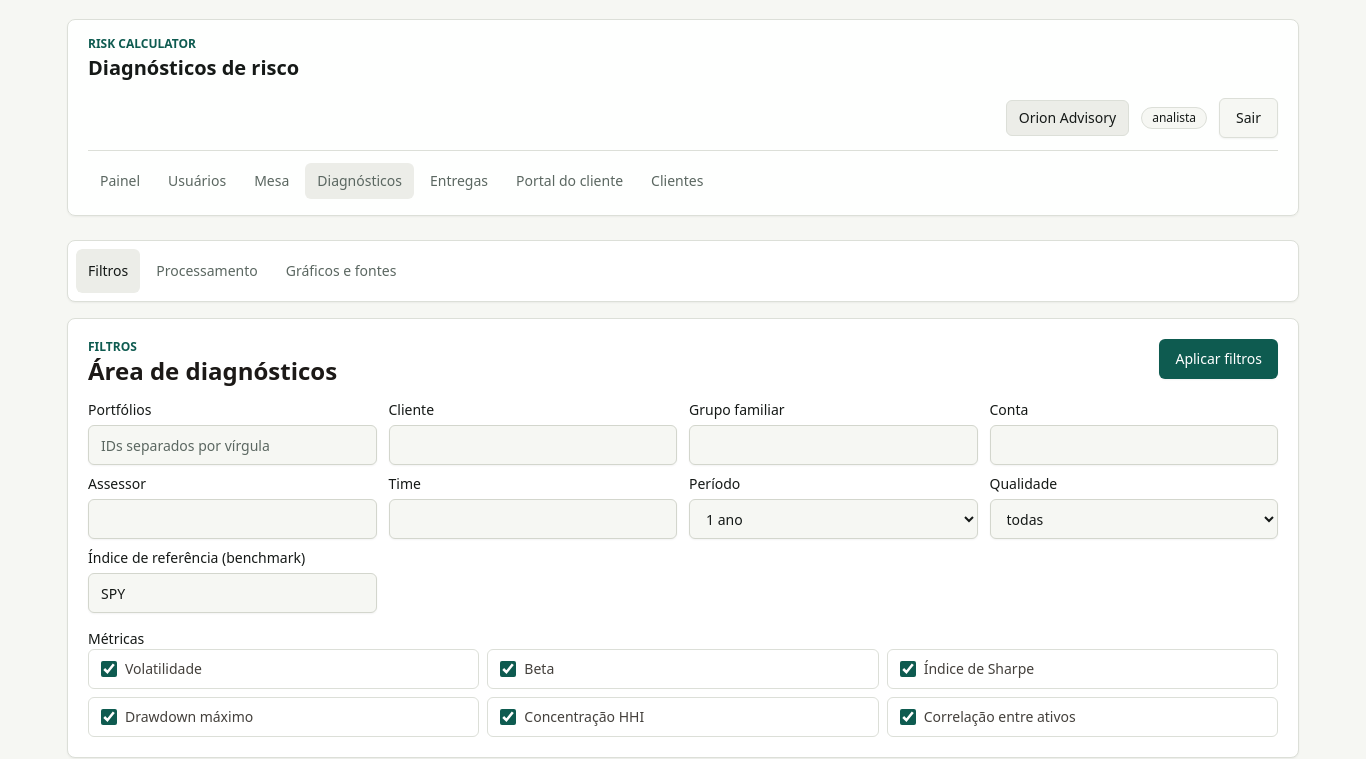
Test case: analytics diagnostics page › renders diagnostic filters, chart sections and async job states
Expected: the heading "Área de diagnósticos" is shown, [88,355,337,387]
Type "prt_main" into the field labelled "Portfólios". click: (232, 445)
box: [88,425,376,465]
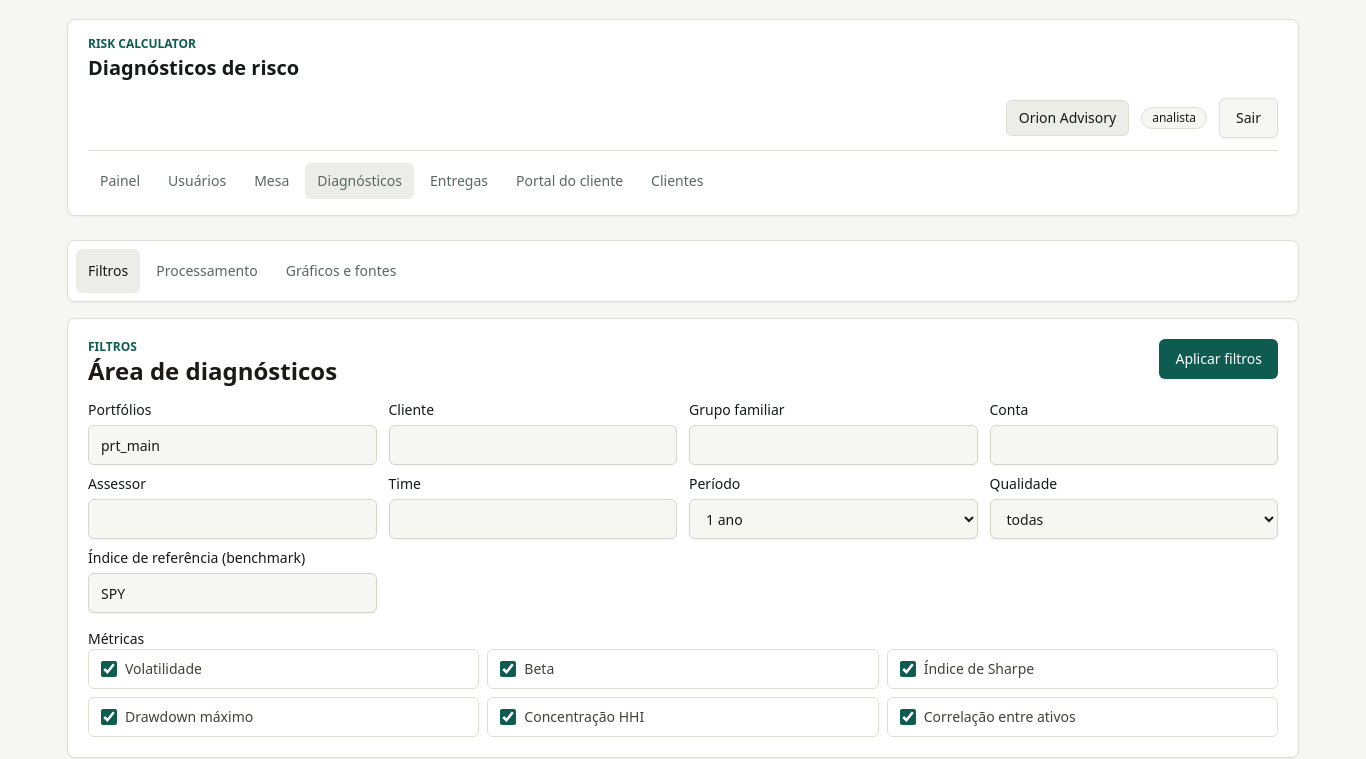
Select "5 anos" in the dropdown labelled "Período". click: (833, 519)
box: [689,499,978,539]
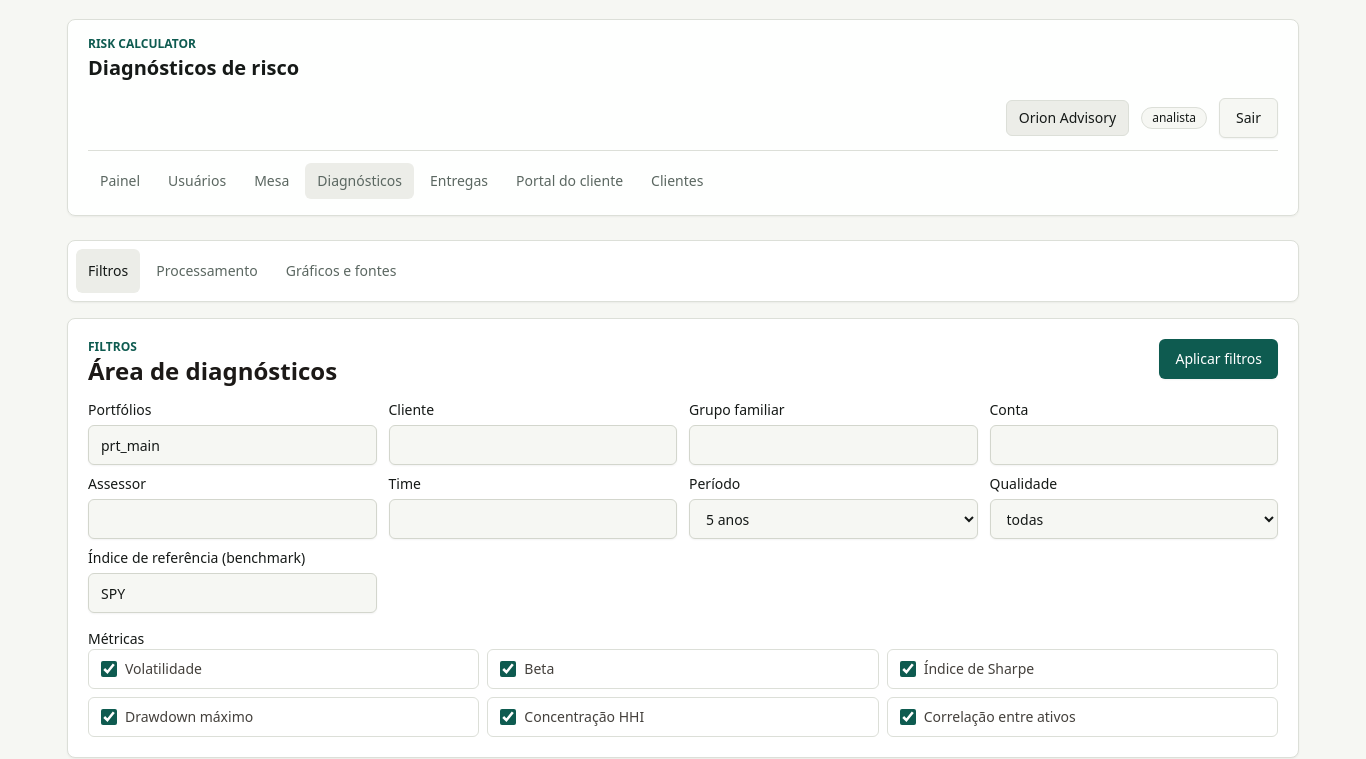
Click the button "Aplicar filtros". click: (1219, 359)
box: [1159,339,1278,379]
(page scrolled)
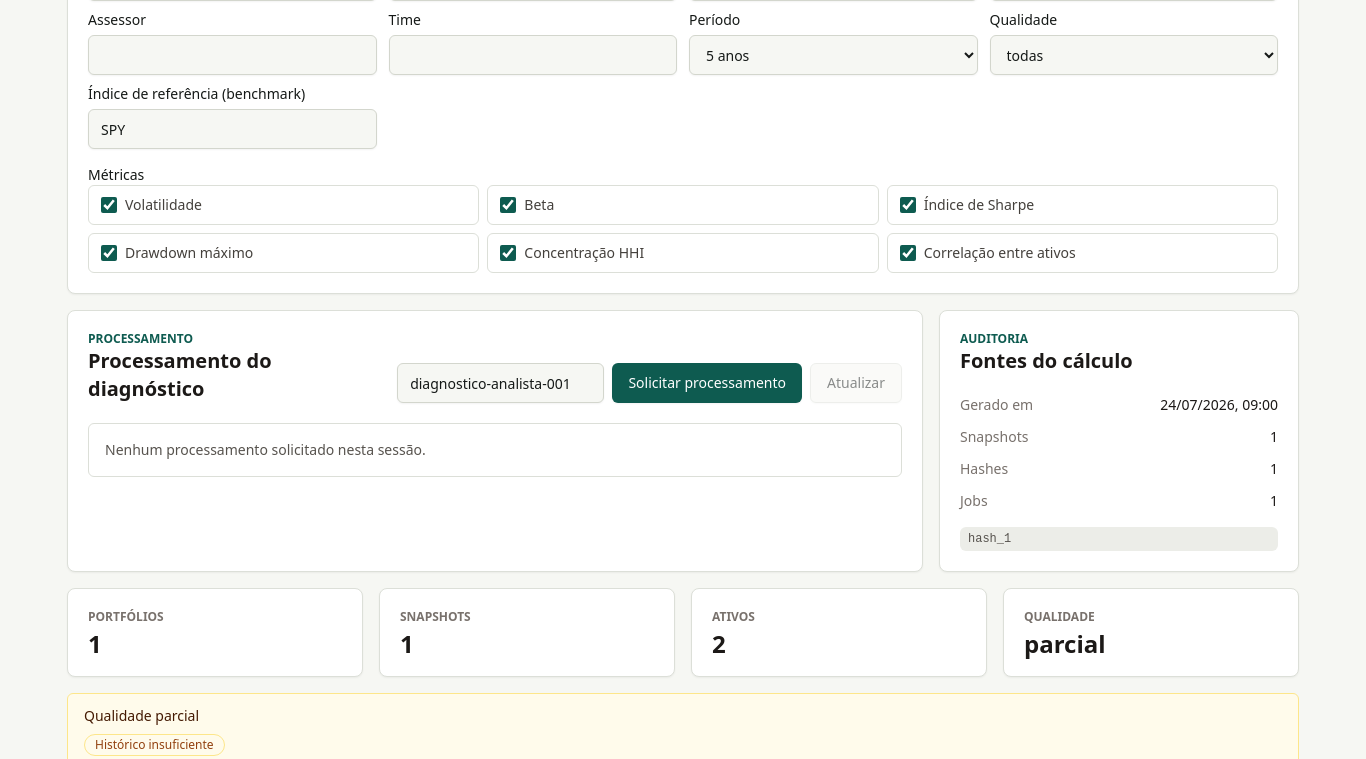
Click the button "Solicitar processamento". click: (707, 383)
box: [612,363,802,403]
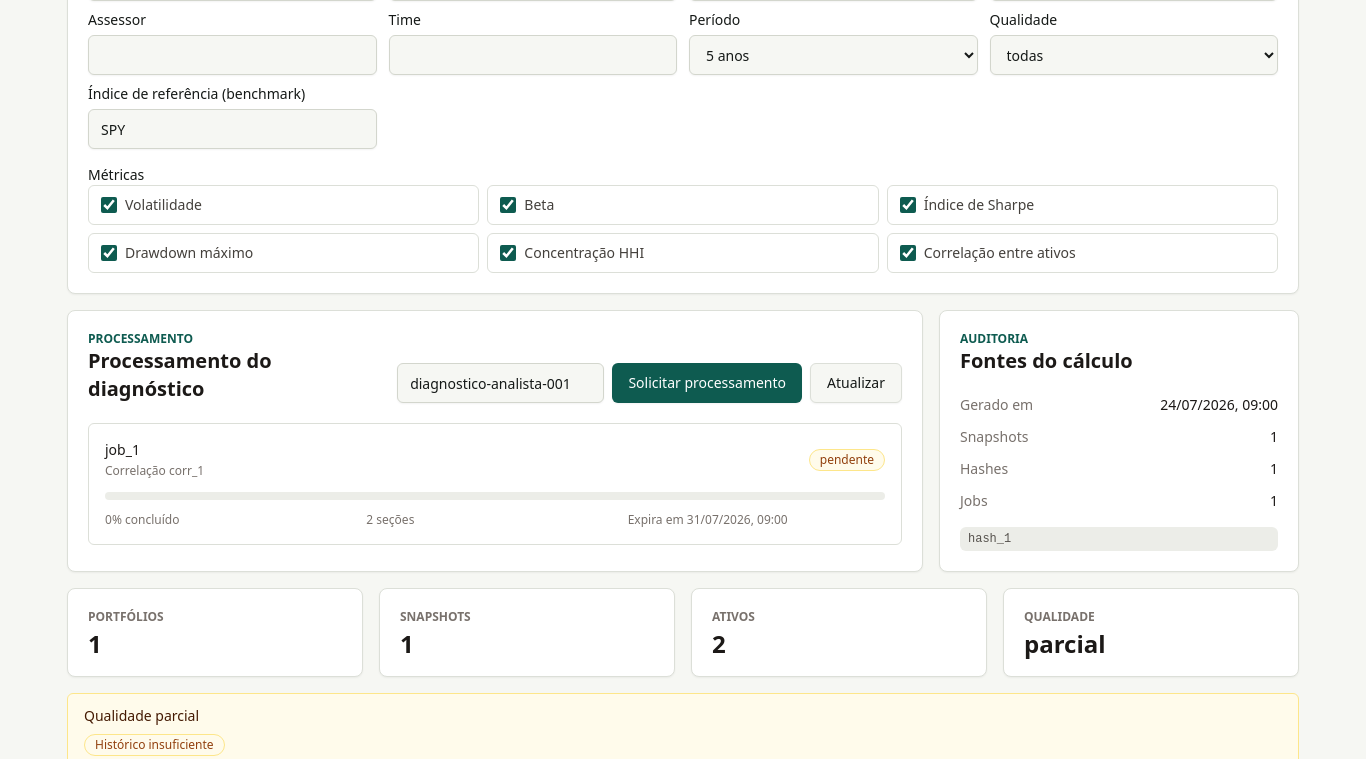
Expected: the text "pendente" is shown, [809,449,885,471]
Click the button "Atualizar". click: (856, 383)
box: [810,363,902,403]
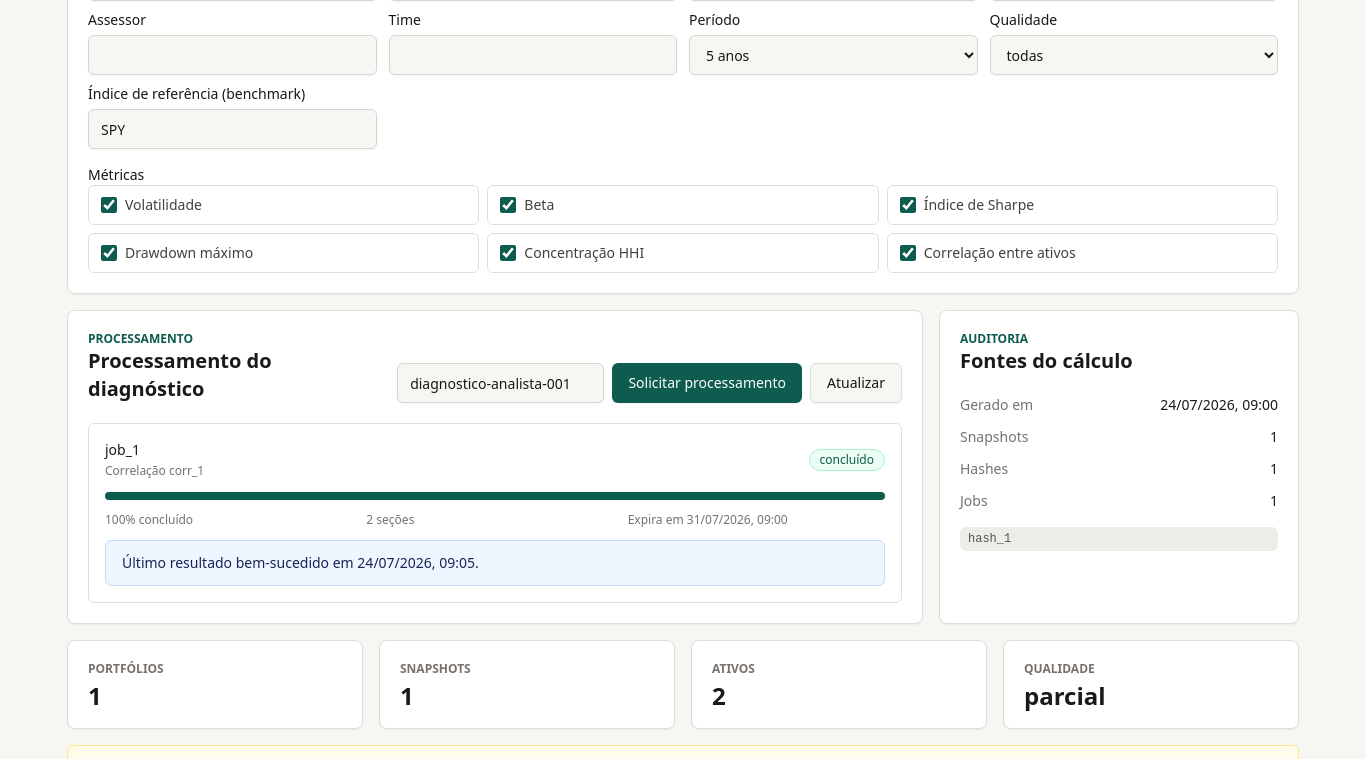
Expected: the text "concluído" is shown, [808,449,885,471]
Expected: the text "Último resultado bem-sucedido em 24/07/2026, 09:05." is shown, [105,540,885,586]
